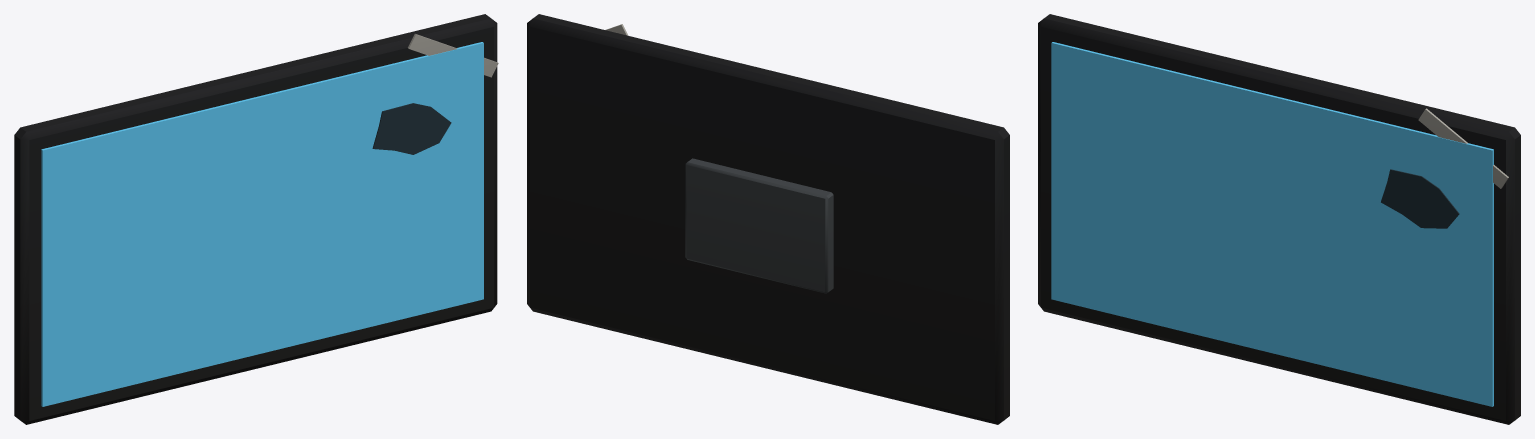
Rendered from 61_tv_courses.fbx.
The picture shows the model from 3 angles, left to right: view 1: azimuth 30°, elevation 25°; view 2: azimuth 150°, elevation 25°; view 3: azimuth 330°, elevation 25°; orthographic projection.
Parts seen in each view (by area): view 1: Ecran, TV; view 2: TV; view 3: Ecran, TV.
Boxes of the visible parts, x1,y1,x2,y2 form: Ecran: (41, 42, 483, 406); TV: (14, 14, 498, 424); TV: (527, 14, 1009, 424); Ecran: (1051, 42, 1493, 406); TV: (1038, 14, 1520, 424).
Bounding box in the file's own units: 1.12 × 0.672 × 0.084.
Materials: 1 (1 with a texture image).
